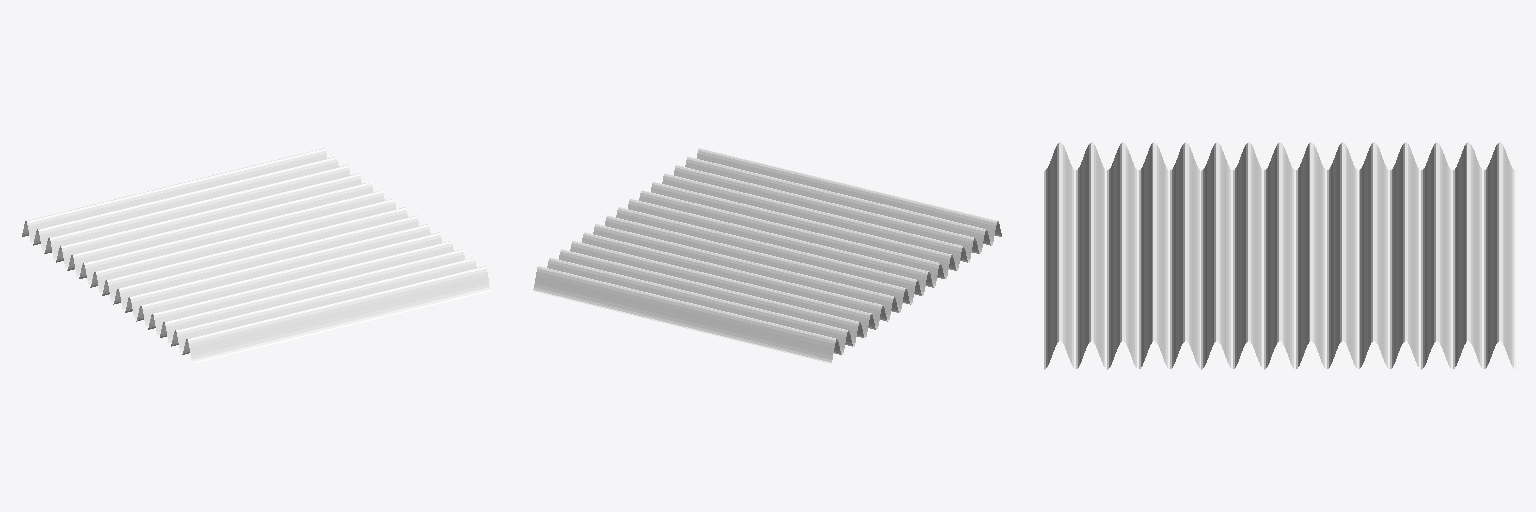
The robot description file, URDF, robot "undulating_a075_w3":
<?xml version="1.0" ?>
<robot name="undulating_a075_w3">
  <link concave="yes" name="undulatingLink">
  <contact>
      <lateral_friction value="2"/>
  </contact>
    <inertial>
      <origin rpy="0 0 0" xyz="0 0 0"/>
       <mass value=".0"/>
       <inertia ixx="0" ixy="0" ixz="0" iyy="0" iyz="0" izz="0"/>
    </inertial>
    <visual>
      <origin rpy="0 0 0" xyz="0 0 0"/>
      <geometry>
		    <mesh filename="package://snakelib_terrain/meshes/undulating_a05_w1.obj" scale="1 1 1"/>
      </geometry>
       <material name="white">
        <color rgba="1 1 1 1"/>
      </material>
    </visual>
    <collision concave="yes">
      <origin rpy="0 0 0" xyz="0 0 0"/>
      <geometry>
	 	    <mesh filename="package://snakelib_terrain/meshes/undulating_a05_w1.obj" scale="1 1 1"/>
      </geometry>
    </collision>
  </link>
</robot>
<!--- Undulating terrain with amplitude 0.5 meters and wavelength of 1 meters -->

--- Render facts (derived) ---
3 views of the same robot in one strip: view 1: azimuth 30°, elevation 25°; view 2: azimuth 150°, elevation 25°; view 3: azimuth 270°, elevation 25° (orthographic).
Model undulating_a075_w3 with 1 links and 0 joints (none), rooted at undulatingLink, posed all joints at 0.
Links seen in each view (by area): view 1: undulatingLink; view 2: undulatingLink; view 3: undulatingLink.
Boxes of the visible links, <box> form: undulatingLink: <box>22,148,490,363</box>; undulatingLink: <box>533,148,1001,363</box>; undulatingLink: <box>1044,142,1515,369</box>.
Bounding box of the posed robot: 15 × 15 × 0.9915 m (x, y, z).
Meshes: 1 distinct files referenced, 1 mesh visuals loaded (1 OBJ).